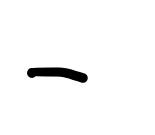minus: (27, 67, 88, 84)
